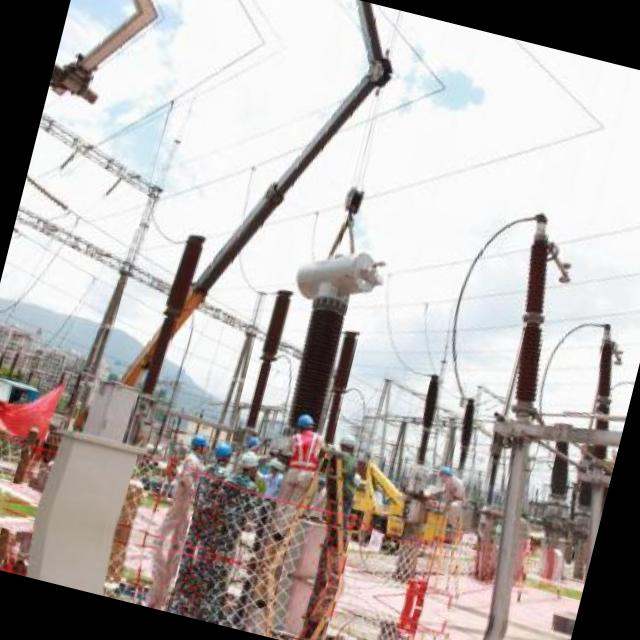helmet: (235, 448, 266, 482), (204, 439, 236, 469), (288, 408, 319, 437), (186, 428, 213, 457), (336, 427, 362, 453)
